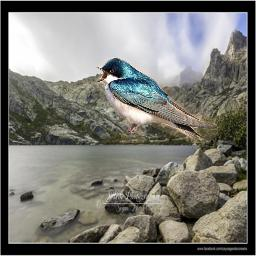Swallow: (94, 56, 218, 143)
